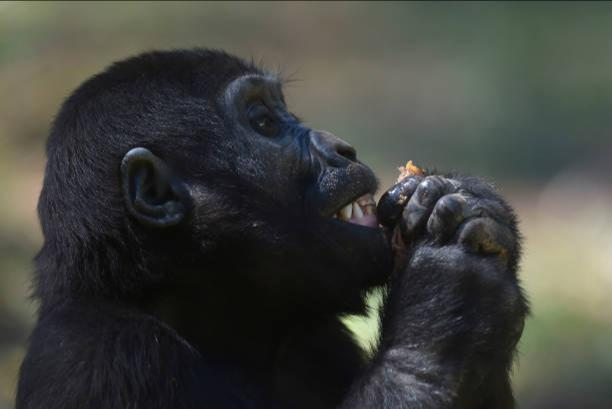gorille_Autres: (27, 35, 516, 402)
